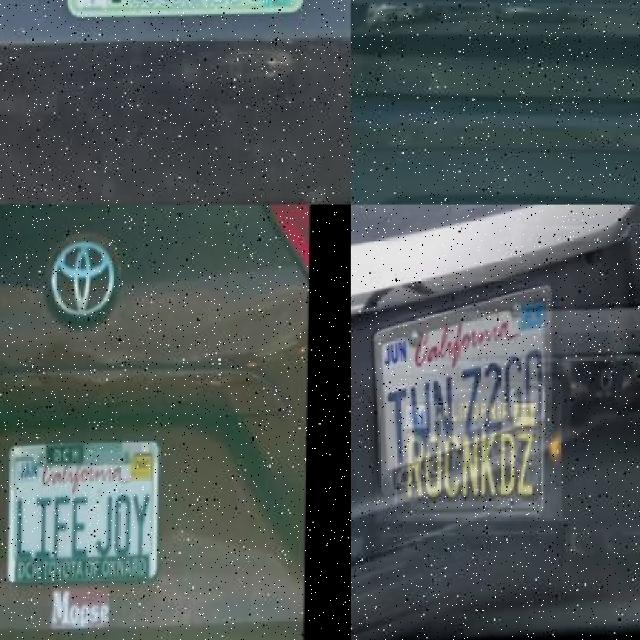licenseplate: (8, 438, 158, 585), (468, 0, 580, 54)
